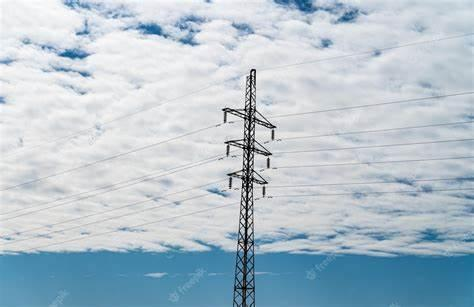power_tower: (218, 65, 274, 307)
